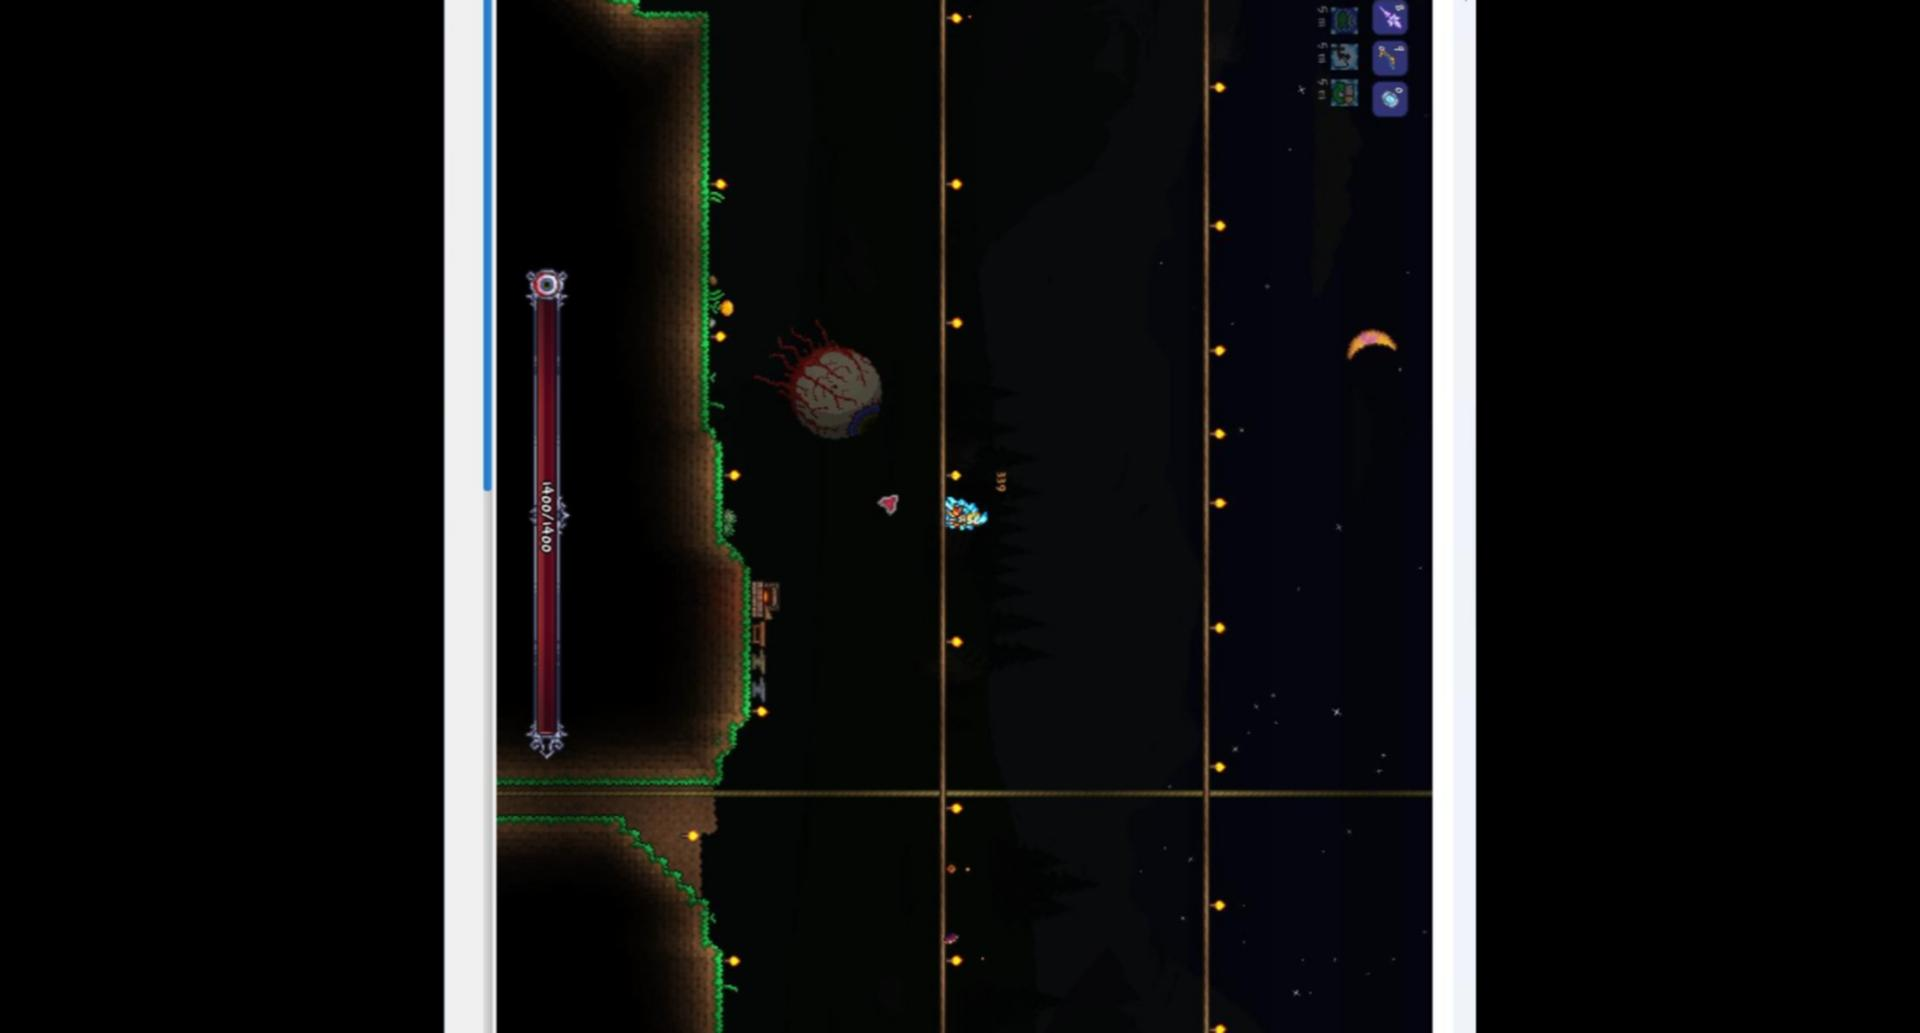eyeC: (740, 318, 886, 445)
